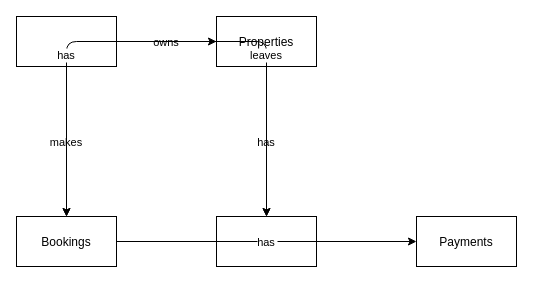
The diagram is 533 pixels wide and 283 high, and some of its shapes have lost their labels. The shapes that lost their labels are listed below. From the top down, each one's centre as x and y in pixels, then its label:
At (66,41): "Users".
At (266,241): "Reviews".
